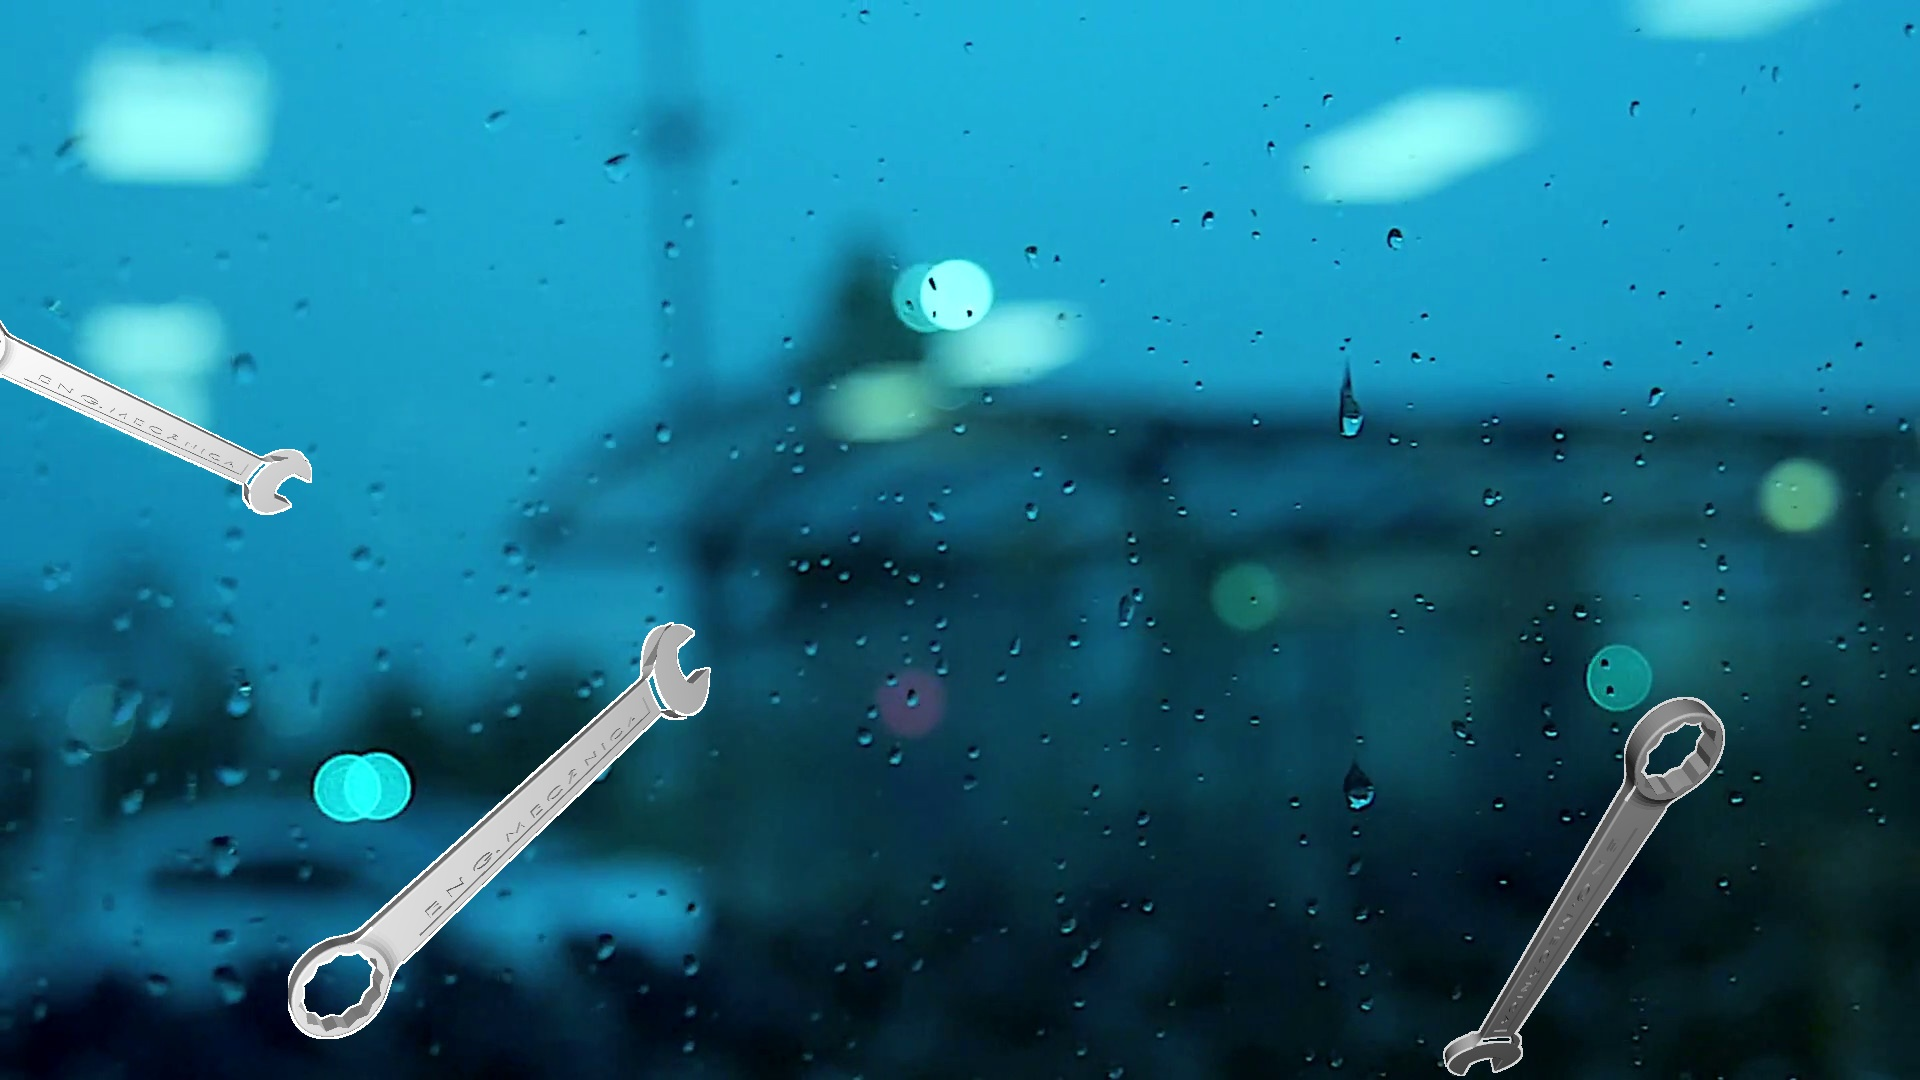Mixed Key: (287, 622, 709, 1038), (1443, 698, 1724, 1075), (0, 320, 311, 514)
